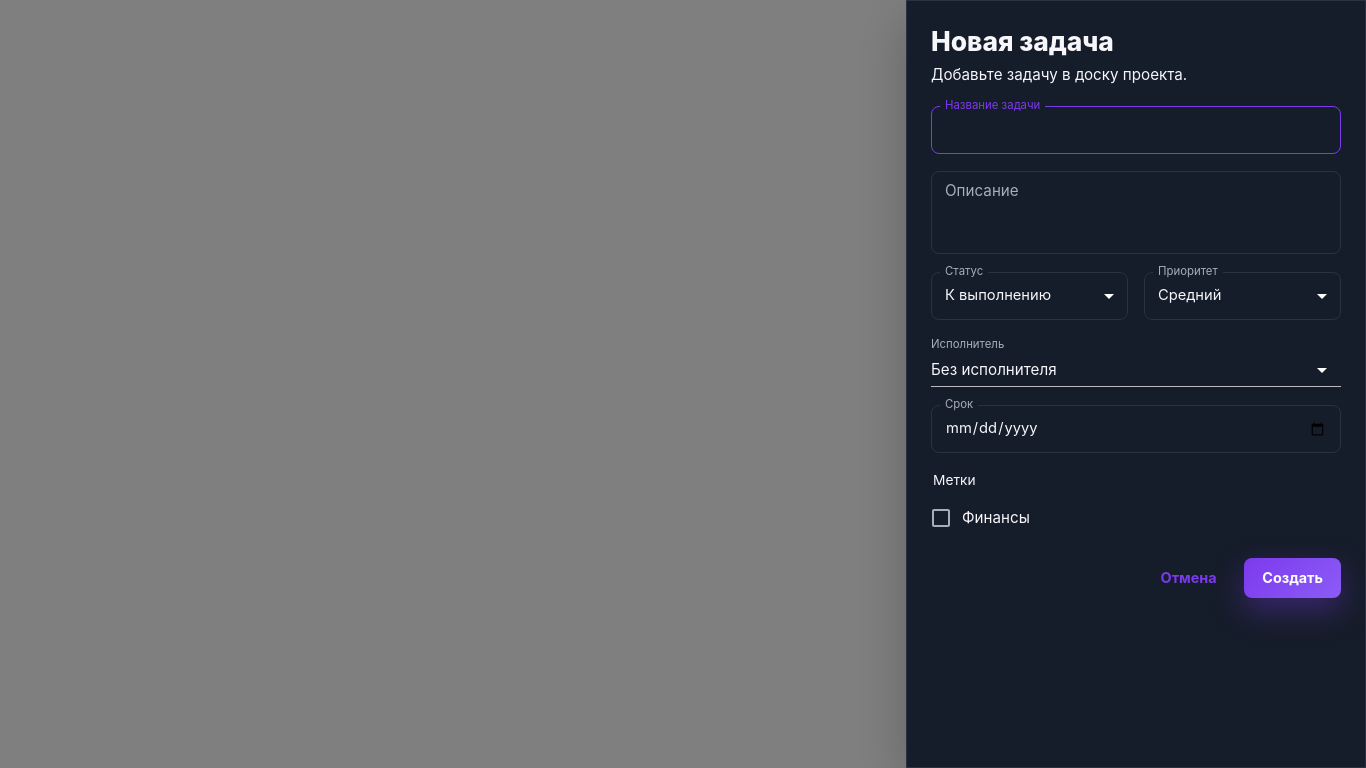
Scenario: TaskDrawer › missing title prevents submit
The image size is (1366, 768).
Click the button "Создать": coordinates (1293, 578) [1244,558,1341,598]
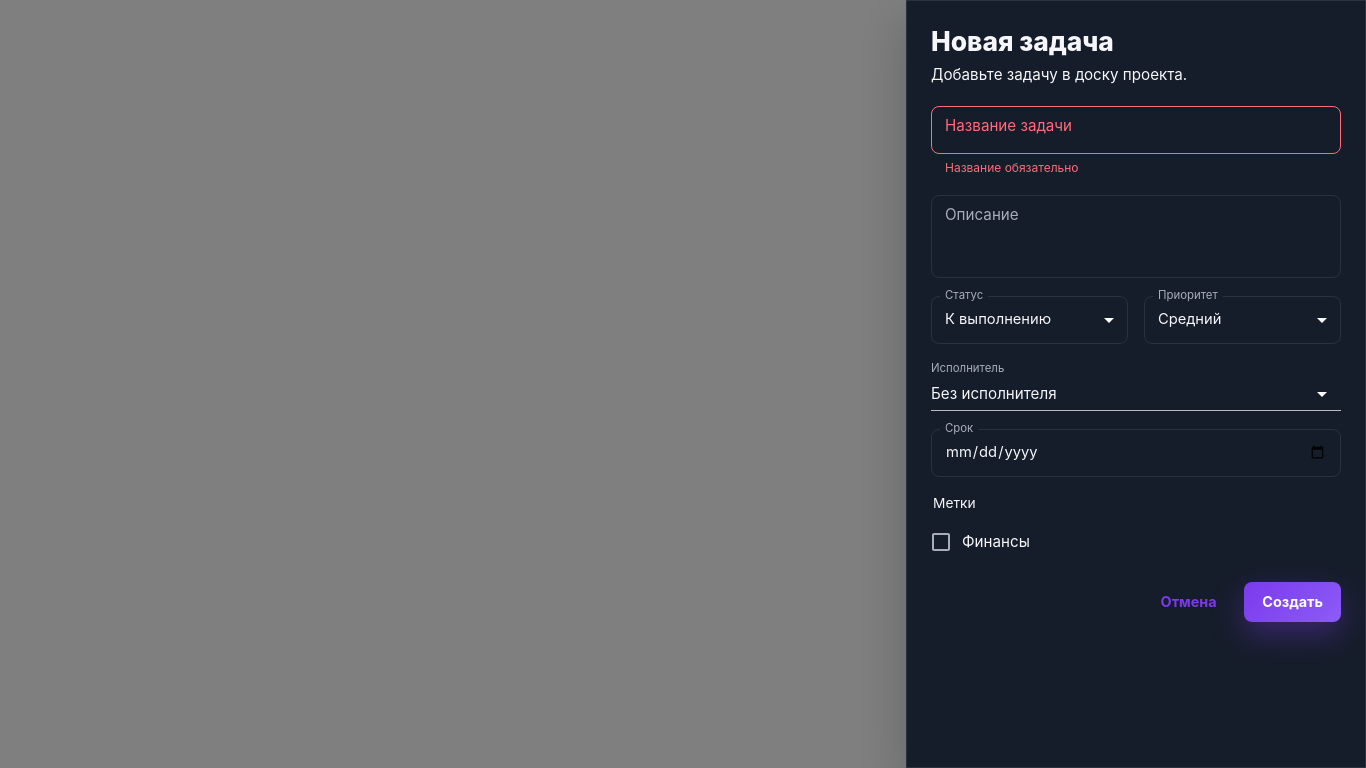
Check: the text "Название обязательно" is shown, box [945,160,1078,174]
